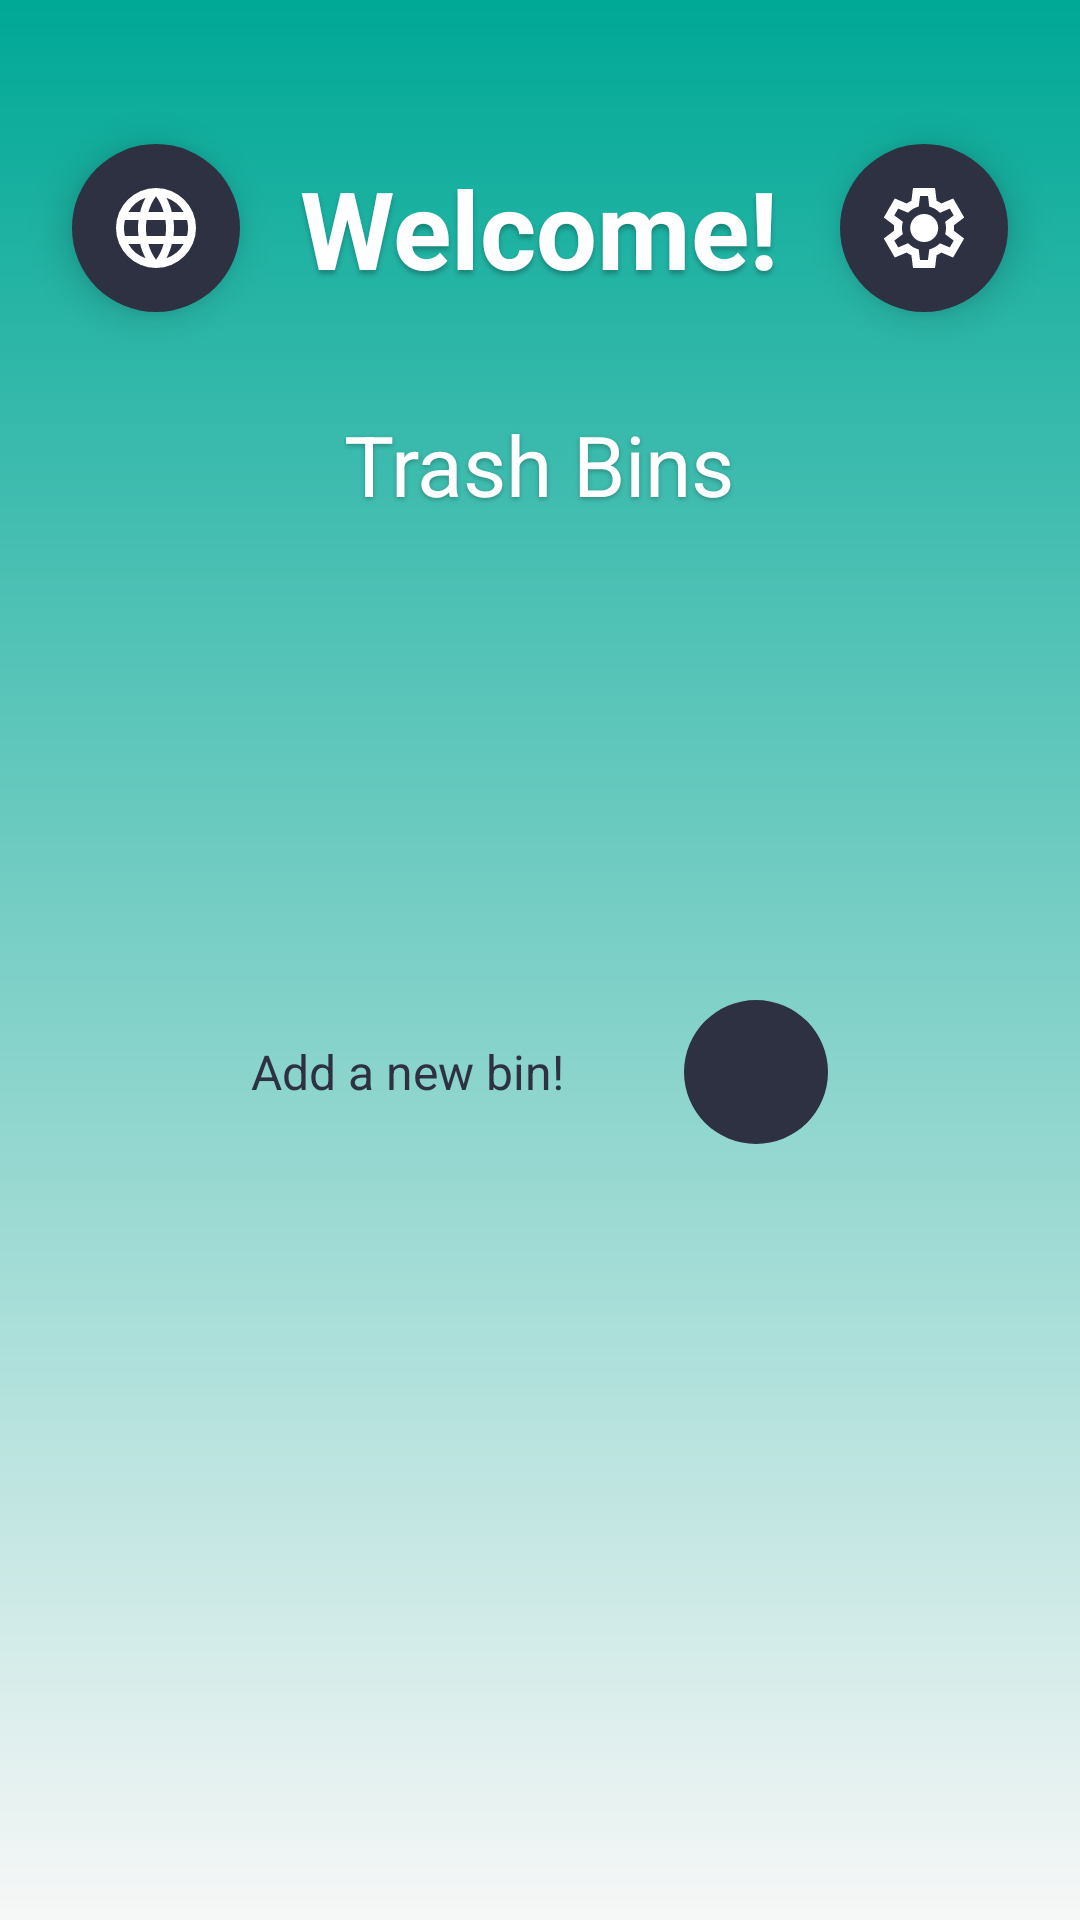

Where icons sit on this 1080px×1920px app screen, as (x1, y1, x2, y2):
language: (72, 144, 240, 312)
settings: (840, 144, 1008, 312)
